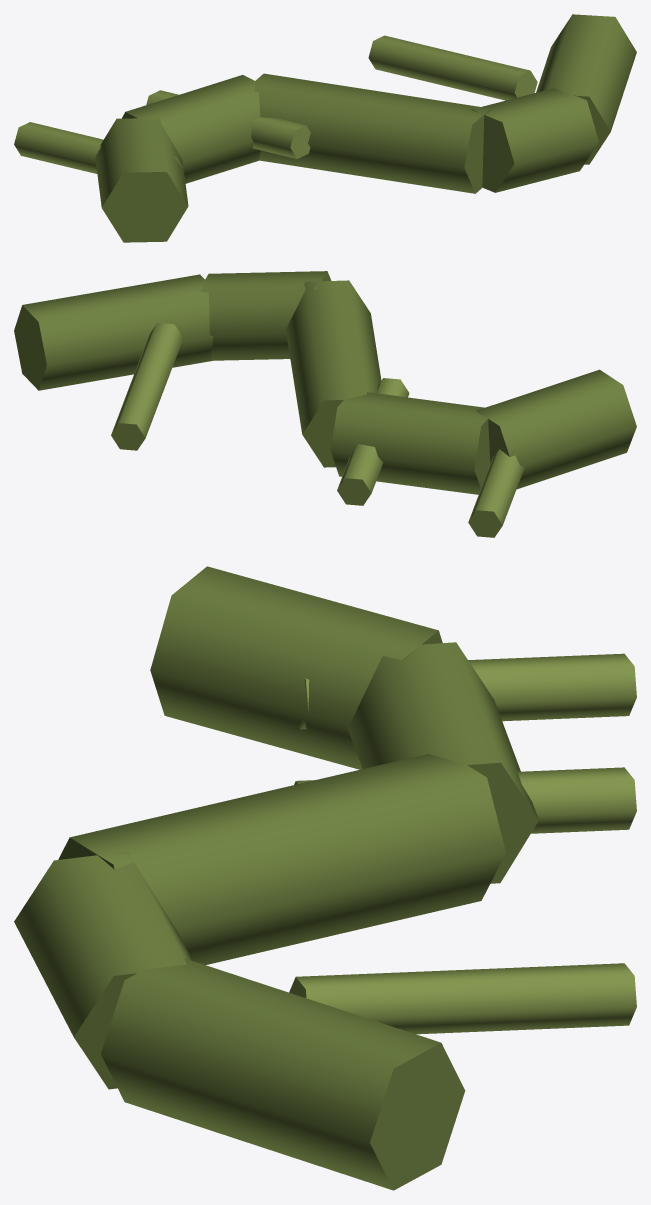
File: spread-portable-corpse-plant.fbx
3 views of the same model, one above another, from view 1: azimuth 30°, elevation 25°; view 2: azimuth 150°, elevation 25°; view 3: azimuth 270°, elevation 25° (orthographic). The views are drawn at different scales.
Visible parts, largest first — view 1: spread-portable-corpse-plant__Geometry; view 2: spread-portable-corpse-plant__Geometry; view 3: spread-portable-corpse-plant__Geometry.
Boxes of the visible parts, x1,y1,x2,y2 form: spread-portable-corpse-plant__Geometry: (14, 14, 636, 242); spread-portable-corpse-plant__Geometry: (14, 271, 636, 537); spread-portable-corpse-plant__Geometry: (14, 566, 636, 1190).
Size of the model in its own units: 0.7973 by 0.11 by 0.4168.
